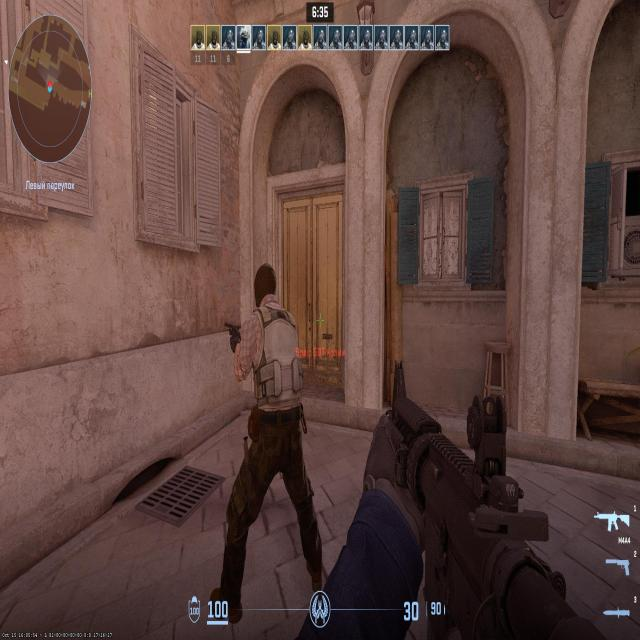T: (244, 275, 297, 524)
T_heat: (259, 274, 280, 316)
